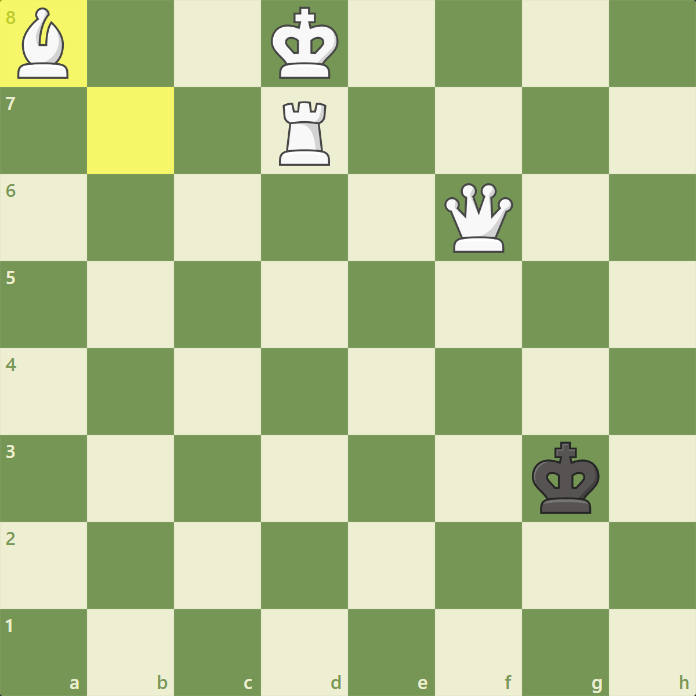B: (15, 6, 71, 82)
K: (269, 5, 340, 82)
Q: (442, 181, 514, 255)
R: (276, 99, 333, 169)
k: (529, 439, 601, 516)
